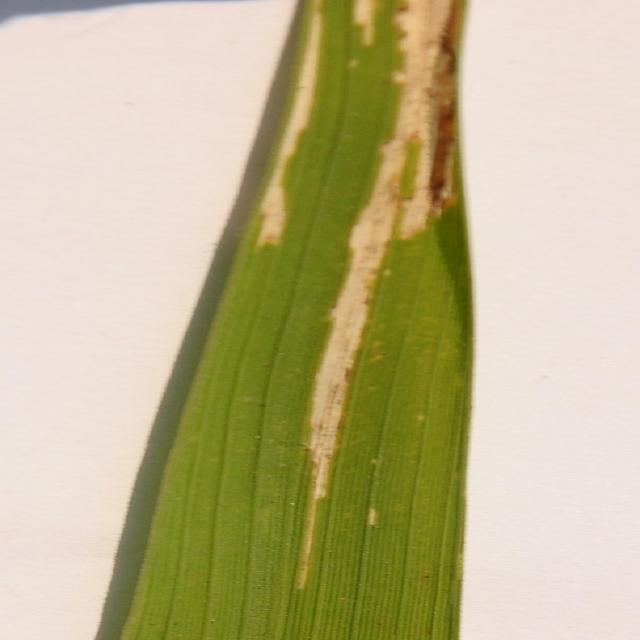leaf blight: (246, 1, 466, 598)
